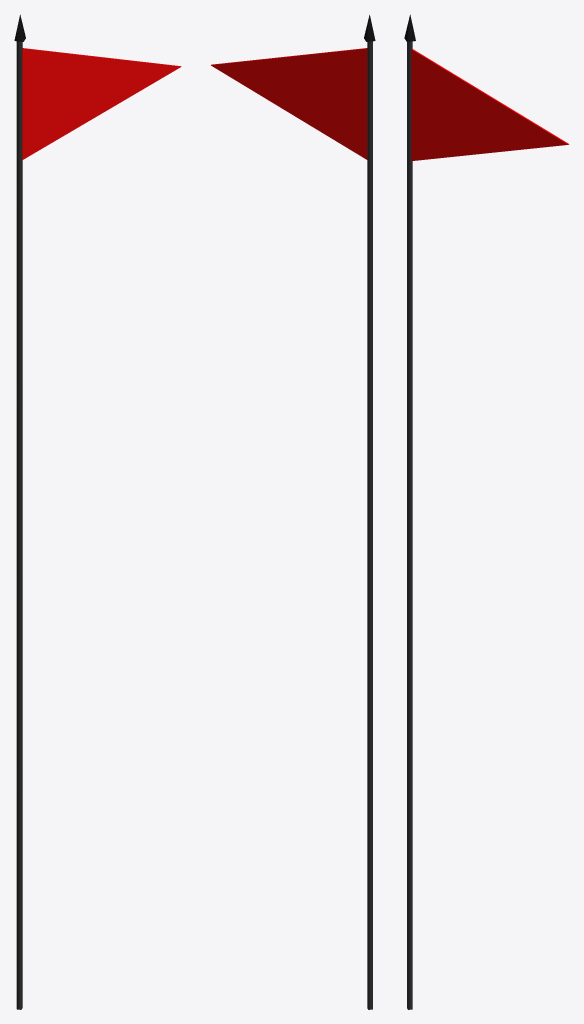
The model's file is bayrak.fbx.
3 views of the same model, side by side, from view 1: azimuth 30°, elevation 25°; view 2: azimuth 150°, elevation 25°; view 3: azimuth 330°, elevation 25° (orthographic).
Parts seen in each view (by area): view 1: Box001, Cylinder003; view 2: Box001, Cylinder003; view 3: Box001, Cylinder003.
Part boxes in pixels (x1=…): Box001: x1=22, y1=48, x2=181, y2=159; Cylinder003: x1=16, y1=41, x2=22, y2=1009; Box001: x1=211, y1=48, x2=367, y2=159; Cylinder003: x1=367, y1=41, x2=372, y2=1009; Box001: x1=411, y1=49, x2=569, y2=161; Cylinder003: x1=407, y1=41, x2=412, y2=1009.
Size of the model in its own units: 61.93 by 355 by 4.36.
